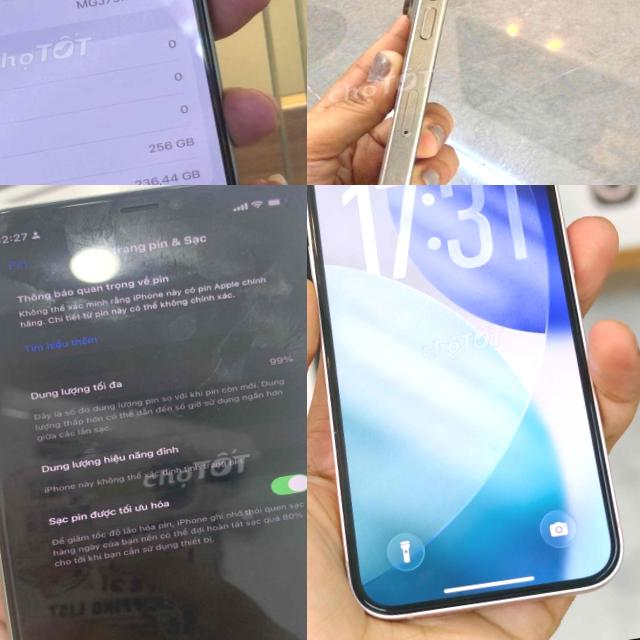gen_11: (0, 185, 307, 640)
gen_12_13: (307, 185, 634, 627)
gen_15: (307, 0, 546, 185)
gen_17: (0, 0, 262, 185)
